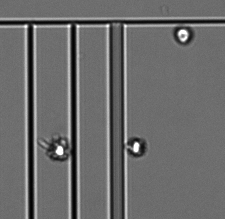Living Cell: (48, 138, 70, 161), (126, 135, 147, 158), (174, 24, 194, 44)
